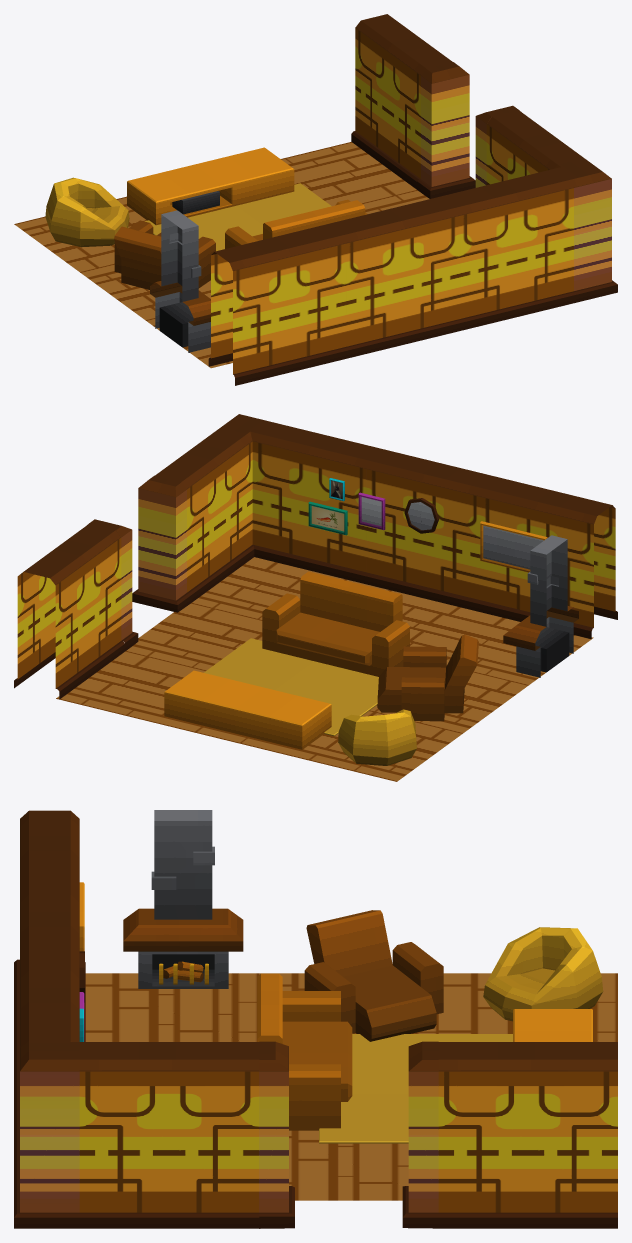
The model's file is Stage1_Living.fbx.
3 renders of one model, top to bottom at view 1: azimuth 30°, elevation 25°; view 2: azimuth 150°, elevation 25°; view 3: azimuth 270°, elevation 25°, orthographic. The views are drawn at different scales.
Visible parts, largest first — view 1: Floor_v3.001; view 2: Floor_v3.001; view 3: Floor_v3.001.
Part boxes in pixels (<box>): Floor_v3.001: <box>14,14,617,385</box>; Floor_v3.001: <box>14,414,617,781</box>; Floor_v3.001: <box>14,810,617,1228</box>.
Size of the model in its own units: 1015 by 300 by 1010.
